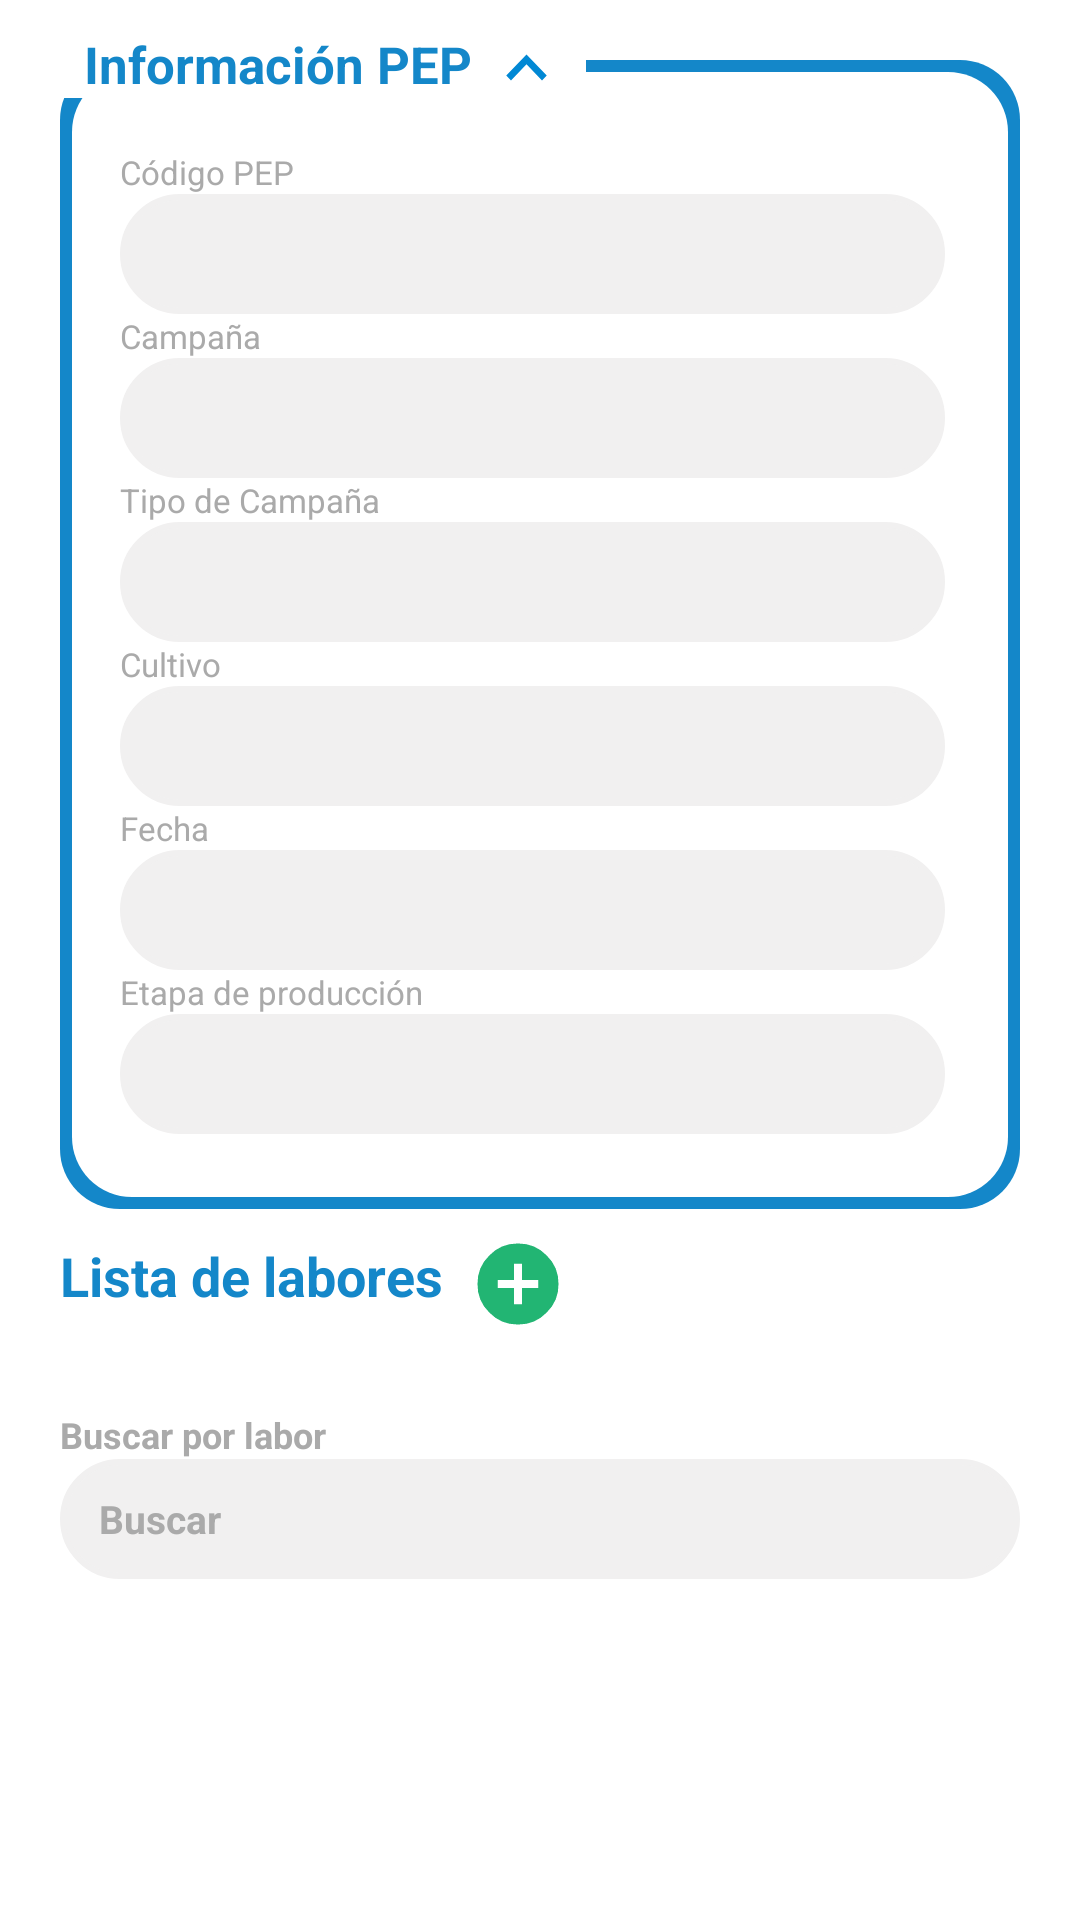

Icons on this 1080x1920 Android screen, each with its box as (x1, y1, x2, y2):
add: (477, 1243, 559, 1325)
